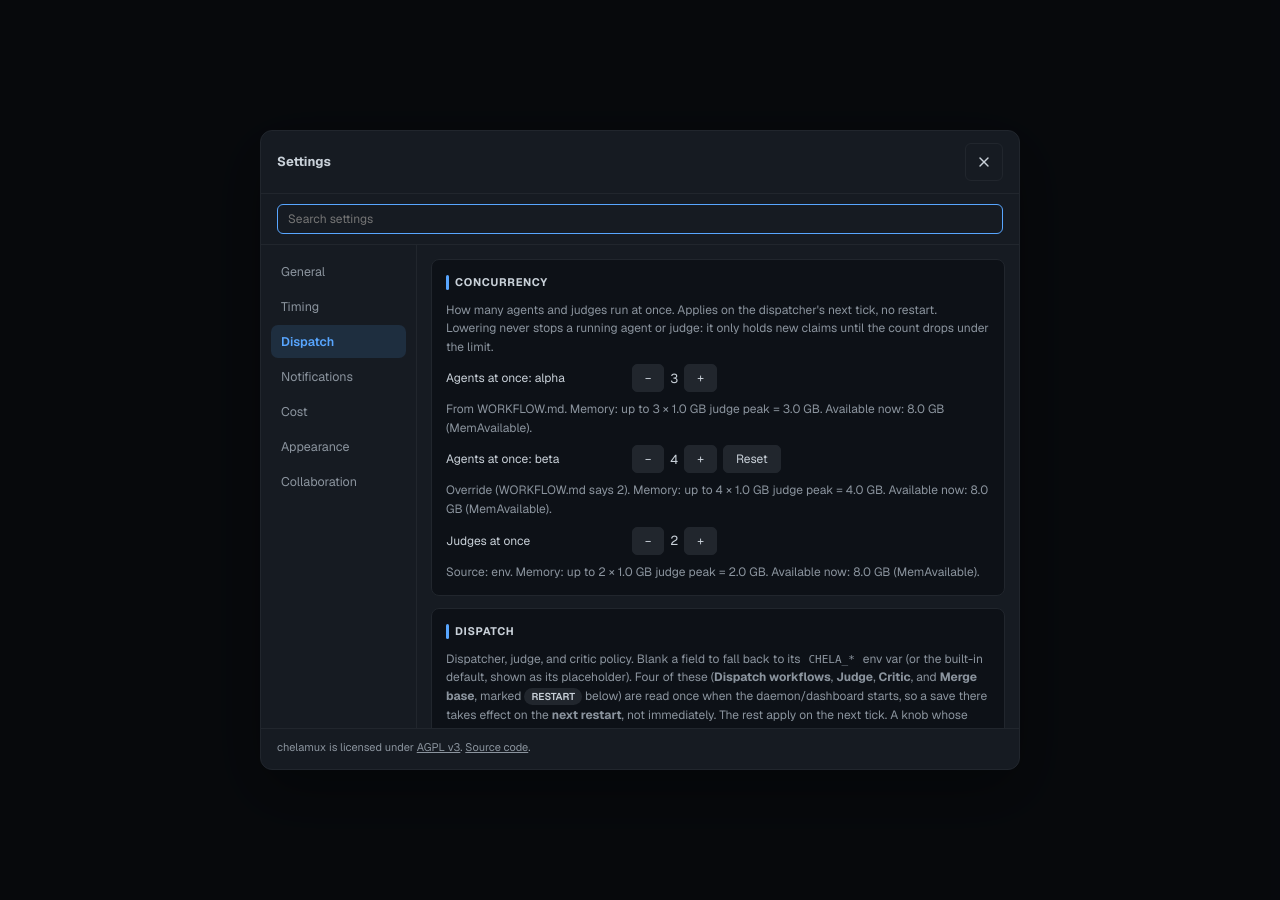
Test: a rejection is shown and the rows are left as they were; a failed request says nothing changed
The width and height of the screenshot is (1280, 900).
Click the button "+" in the row of "Judges at once" at (701,541), box [684, 527, 717, 555]
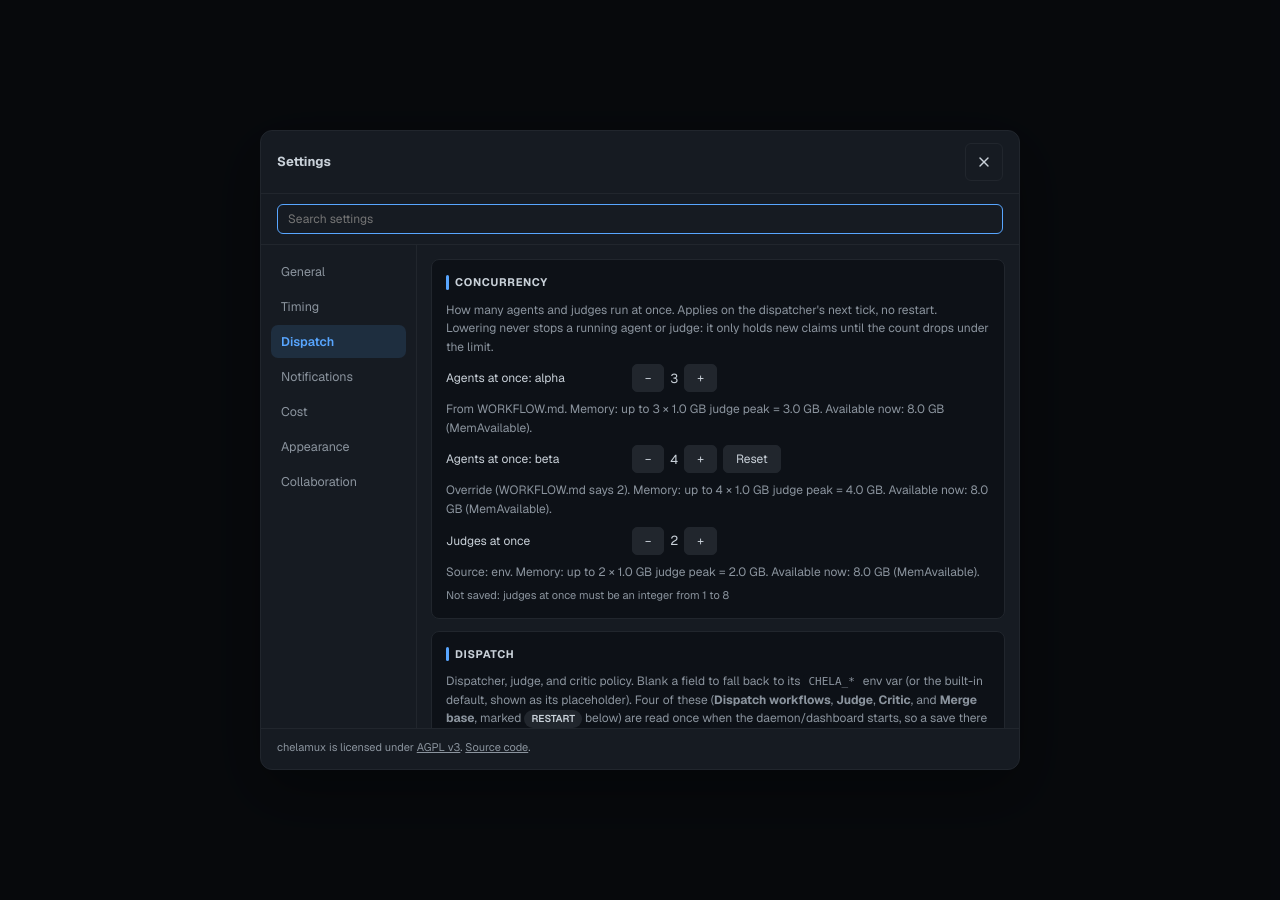
Expected: the text with class "s-num" reads "2", [670, 532, 678, 549]
Result: the text with id "concurrency-msg" reads "Not saved: judges at once must be an integer from 1 to 8" at [446, 588, 729, 602]
Click the 3rd button "−" at (648,541), box [632, 527, 664, 555]
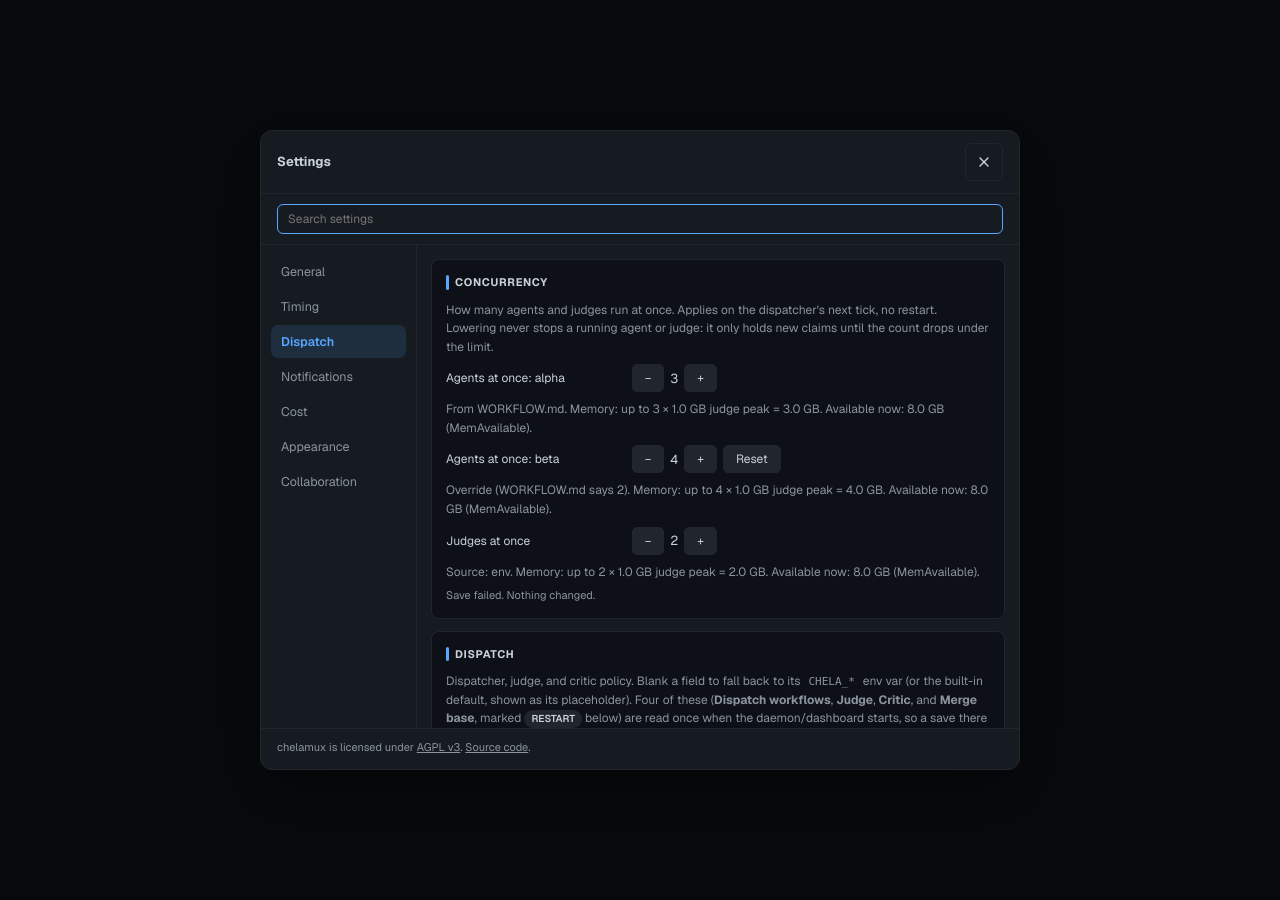
Result: the text with id "concurrency-msg" reads "Save failed. Nothing changed." at [446, 588, 595, 602]
